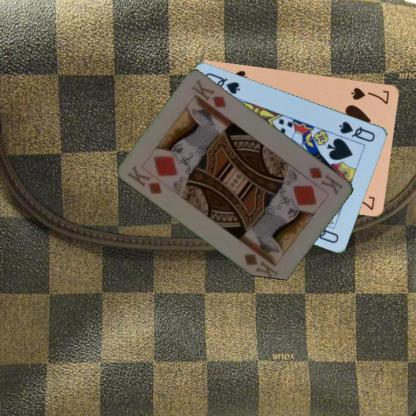7s: (348, 84, 392, 106)
Kd: (124, 163, 164, 196), (307, 164, 344, 197)
Qs: (337, 118, 377, 144)
